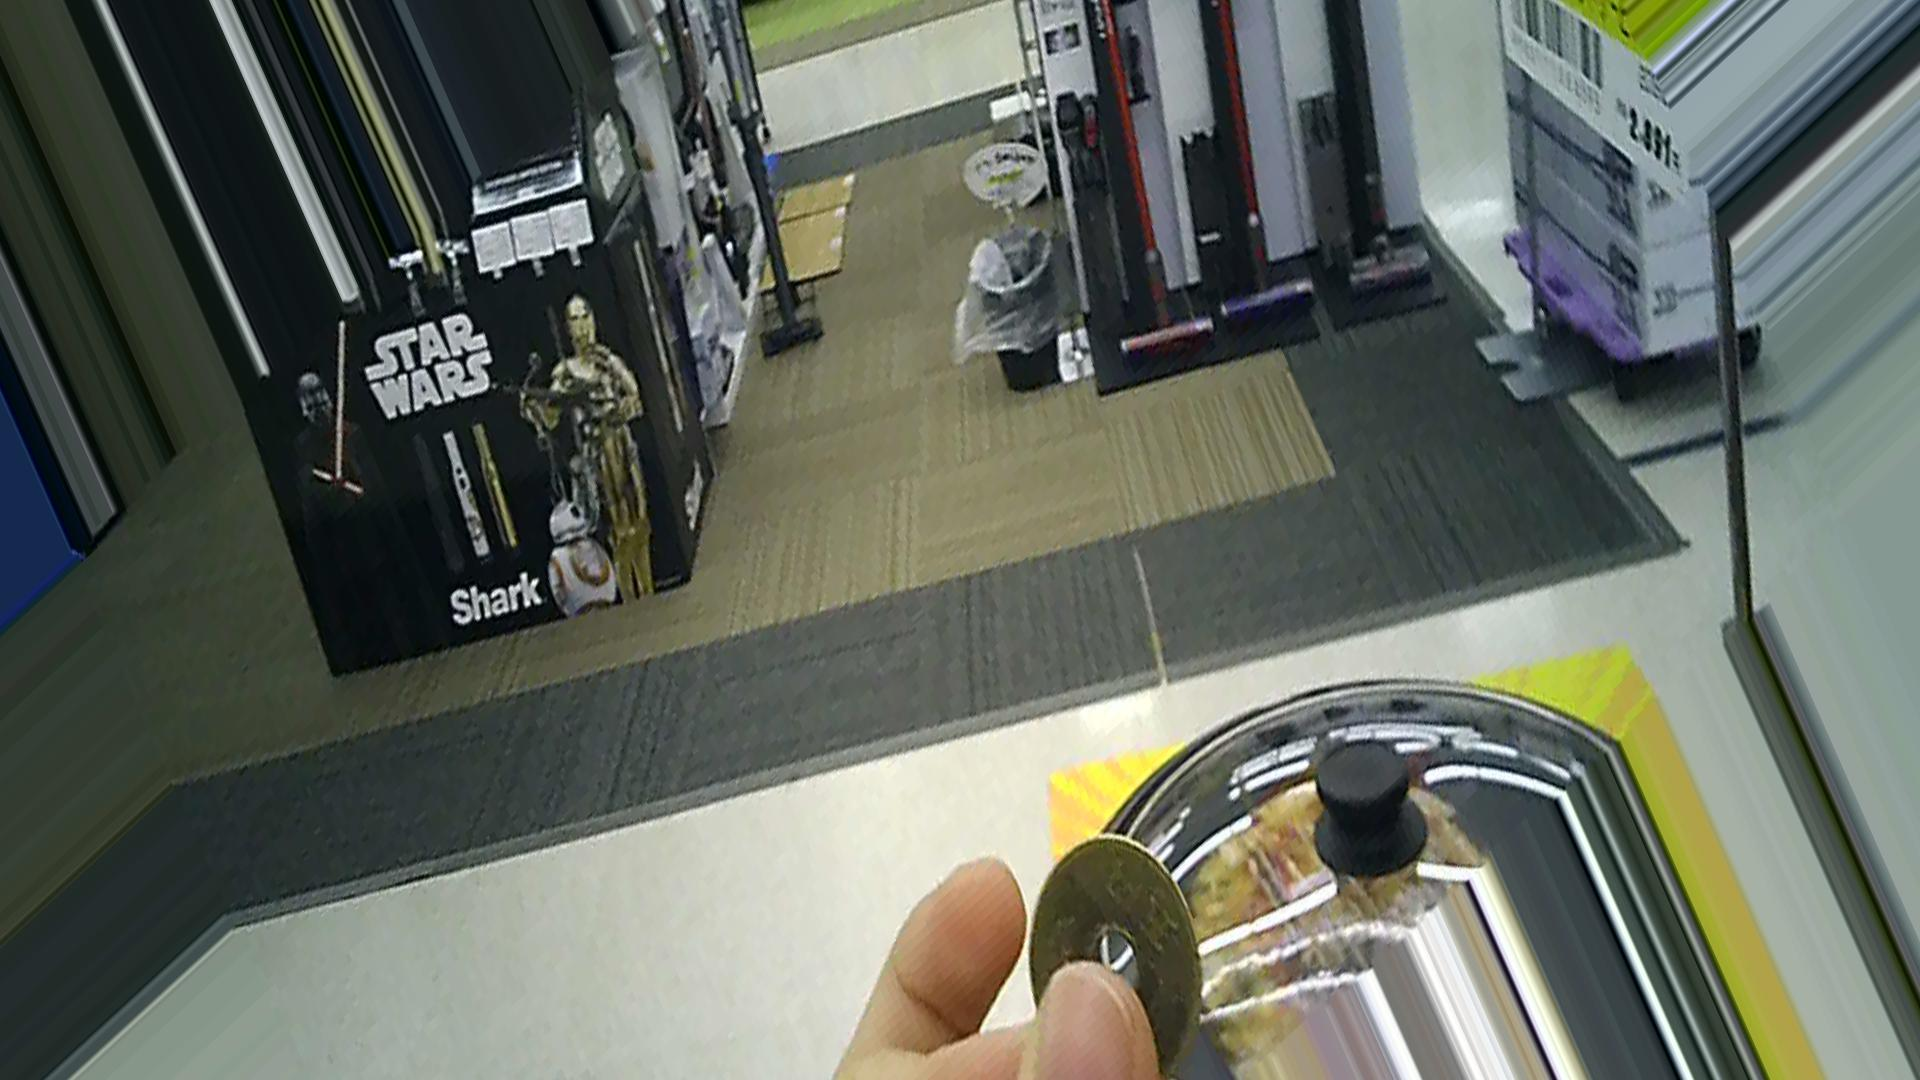5 Yen: (1029, 839, 1208, 1079)
